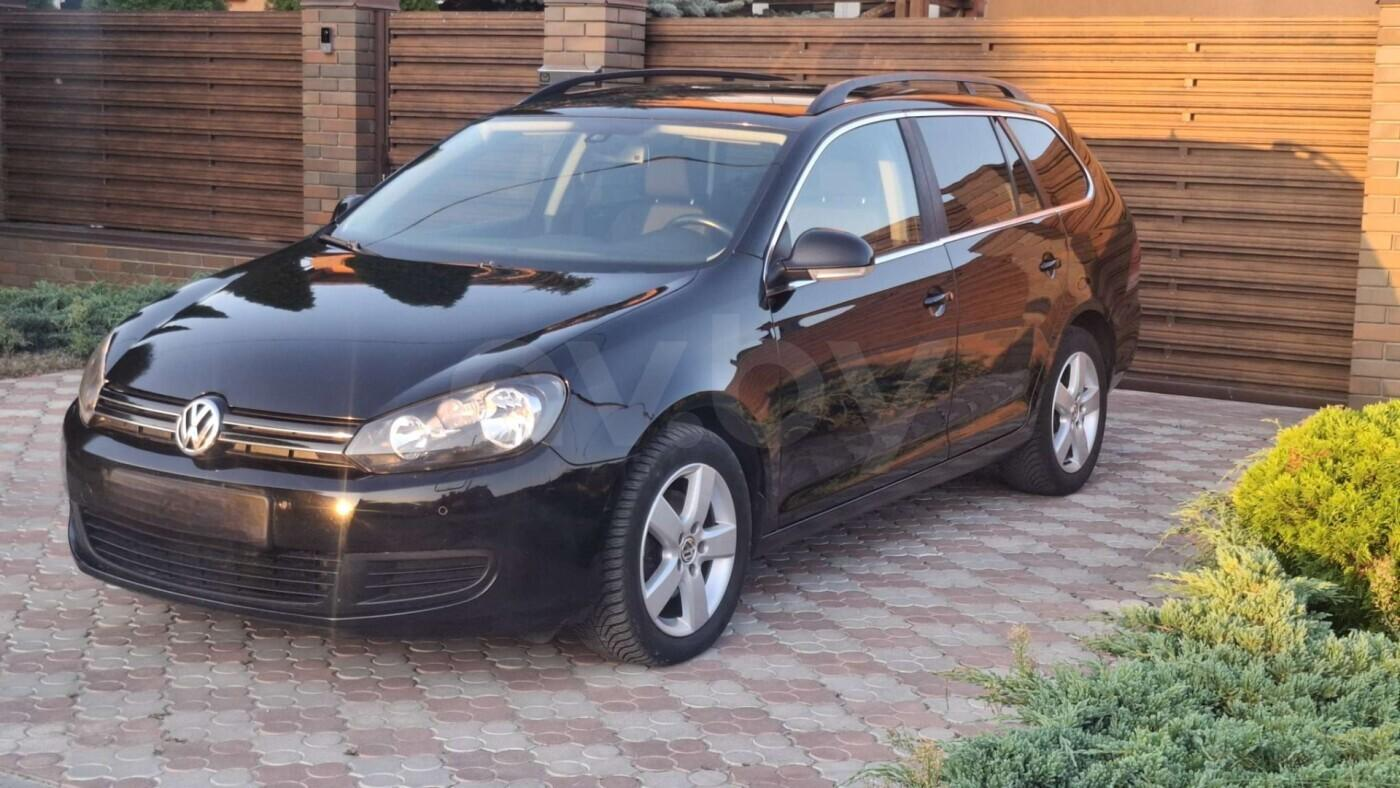Golf_2008-2013: (56, 72, 1140, 665)
